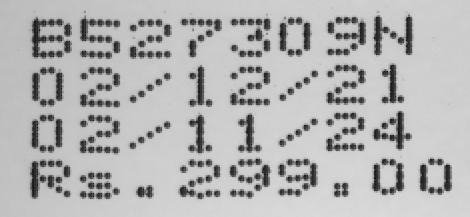.: (131, 177, 161, 203), (329, 179, 354, 201)
/: (125, 66, 175, 108), (124, 115, 174, 154), (276, 63, 319, 107), (276, 112, 318, 154)
0: (277, 15, 313, 59), (29, 64, 65, 108), (30, 112, 66, 156), (370, 156, 406, 200), (417, 154, 453, 198)
1: (184, 65, 218, 109), (375, 62, 409, 106), (183, 113, 217, 157), (232, 111, 266, 155)
2: (126, 17, 173, 61), (77, 66, 124, 110), (227, 64, 274, 108), (322, 63, 369, 107), (76, 112, 123, 156), (176, 157, 223, 201), (322, 110, 368, 154)
3: (227, 15, 273, 60)
4: (370, 108, 416, 153)
5: (77, 15, 123, 61)
7: (179, 15, 223, 61)
9: (323, 13, 369, 58), (226, 157, 273, 201), (276, 156, 323, 200)
B: (29, 16, 73, 61)
N: (372, 12, 416, 58)
R: (28, 157, 72, 202)
S: (76, 170, 123, 201)
